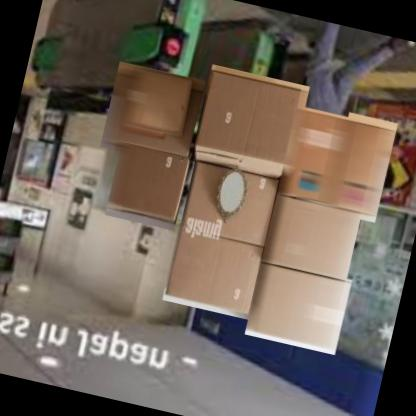box: (188, 62, 312, 185), (99, 59, 209, 169), (161, 221, 270, 322), (243, 258, 354, 356), (178, 156, 285, 252), (262, 191, 364, 280), (326, 110, 400, 224), (104, 140, 194, 233), (276, 104, 352, 209)
